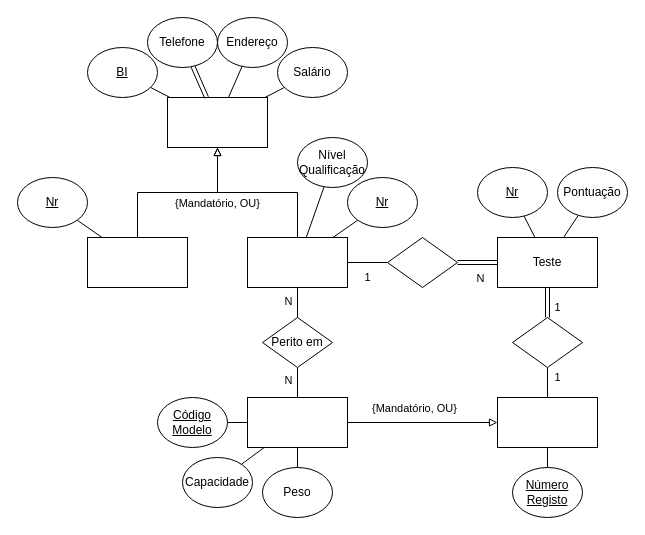
Some shapes in this 645 by 535 pixel diagram are drawn without their labels. Each missing label, with the centre of its shape:
Avião: pixel 547 422
Controlador: pixel 137 262
Empregado: pixel 217 122
Faz: pixel 422 262
Modelo Avião: pixel 297 422
Técnico: pixel 297 262
Verifica: pixel 547 342
